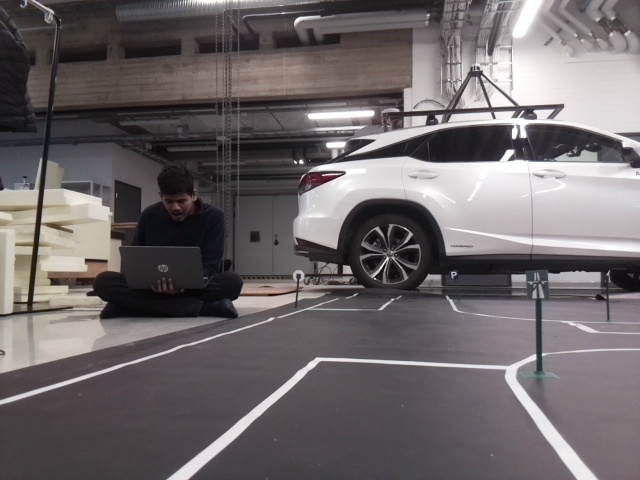HighwayExit: (525, 270, 547, 297)
Parking: (449, 270, 457, 279)
